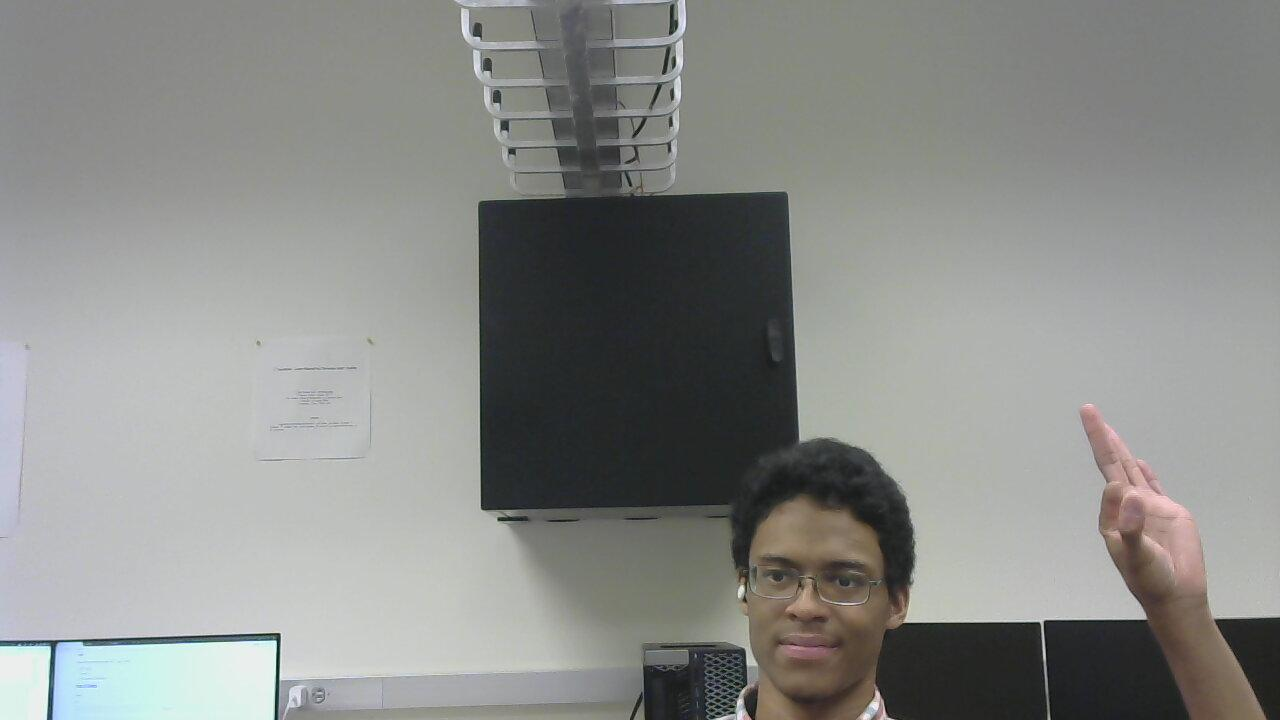hands: (1071, 392, 1210, 611)
